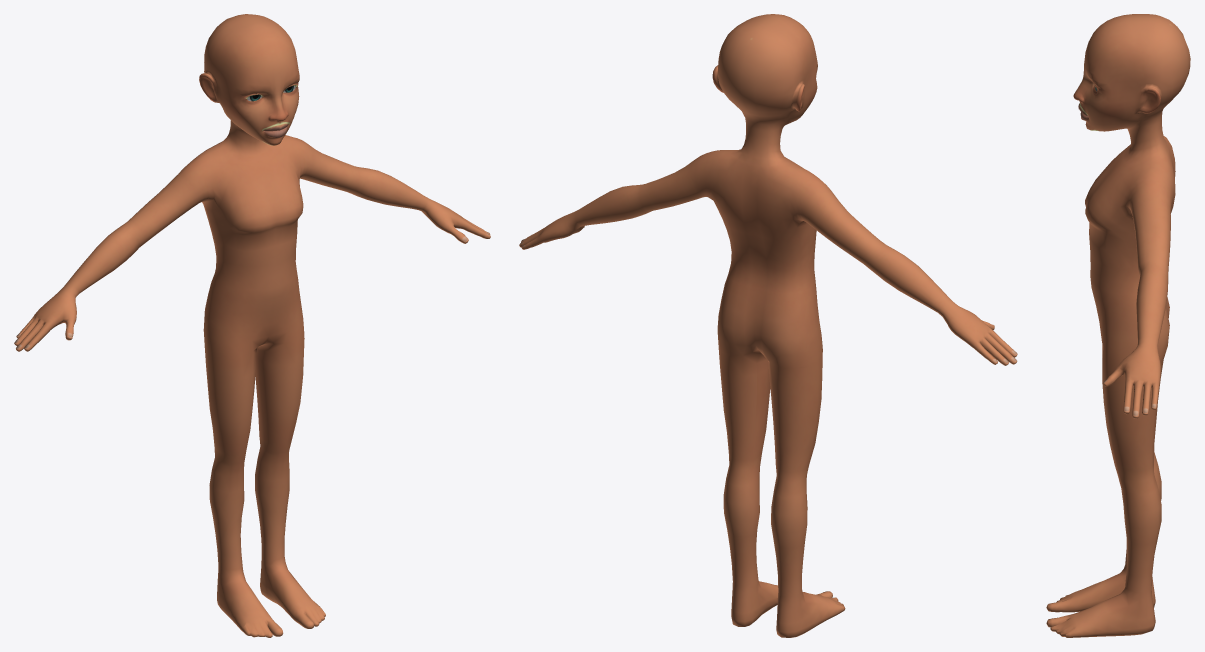
File: frame_0040.glb
3 views of the same model, side by side, from view 1: azimuth 30°, elevation 25°; view 2: azimuth 150°, elevation 25°; view 3: azimuth 270°, elevation 25° (orthographic). The views are drawn at different scales.
Visible parts, largest first — view 1: frame_0040_head_geo; view 2: frame_0040_head_geo; view 3: frame_0040_head_geo.
Part boxes in pixels (x1=…): frame_0040_head_geo: x1=14, y1=14, x2=490, y2=637; frame_0040_head_geo: x1=519, y1=14, x2=1017, y2=637; frame_0040_head_geo: x1=1046, y1=14, x2=1190, y2=637.
Bounding box in the file's own units: 1.28 × 1.5 × 0.3253.
Materials: 3 (3 with a texture image).
